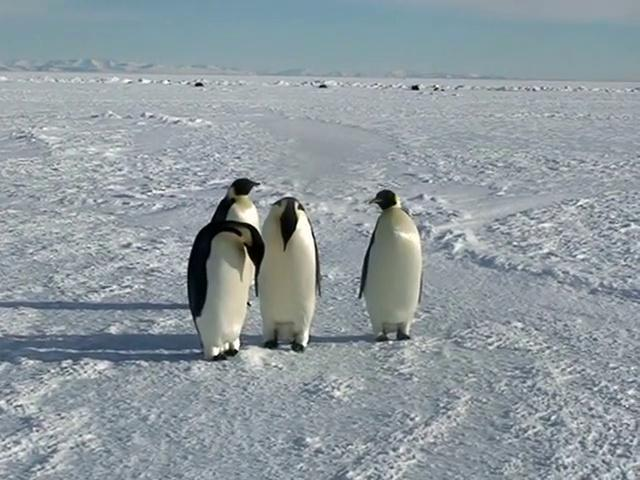animal: (360, 191, 424, 342)
